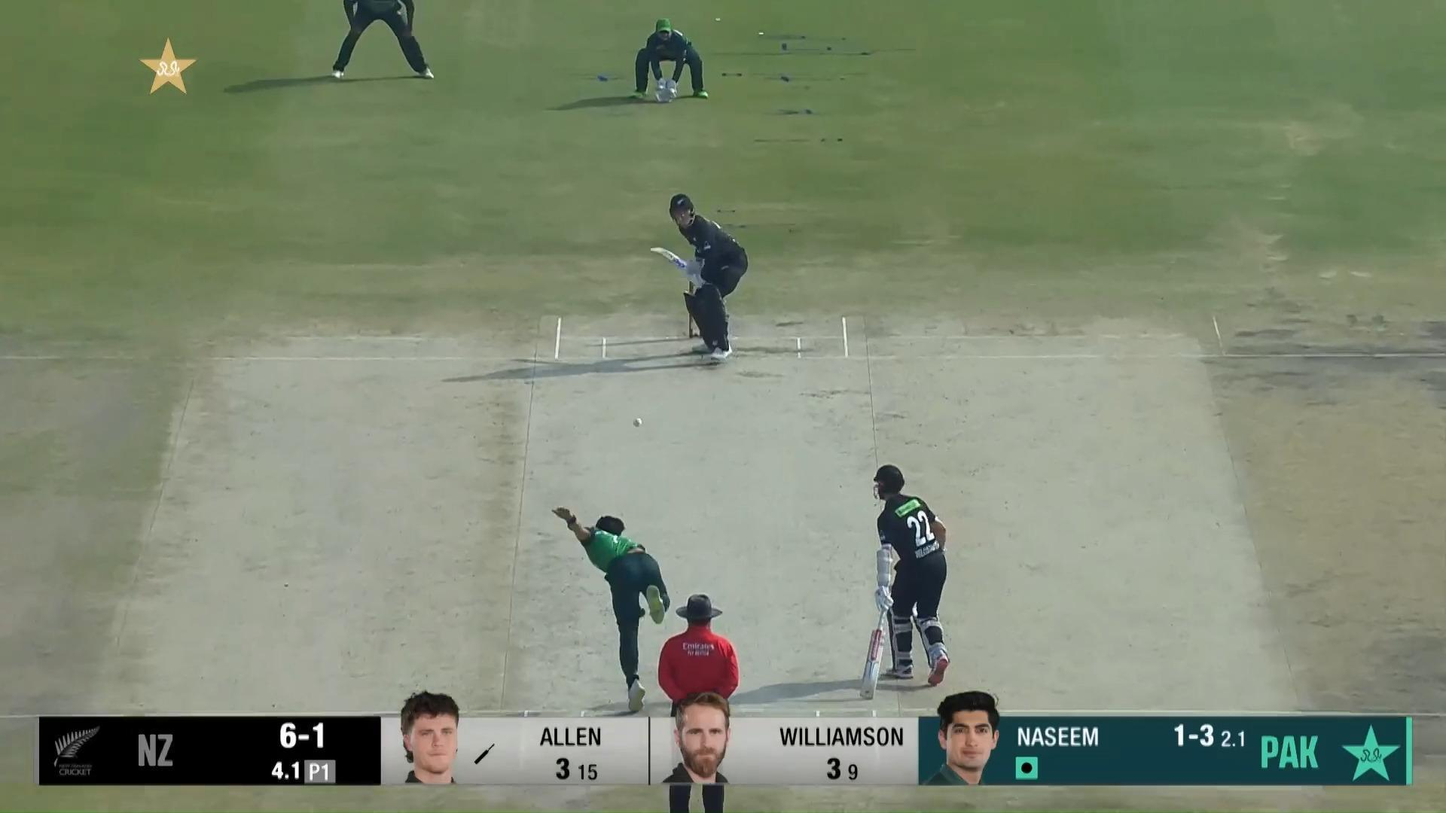BM 1: (649, 192, 749, 362)
BO: (549, 505, 672, 713)
